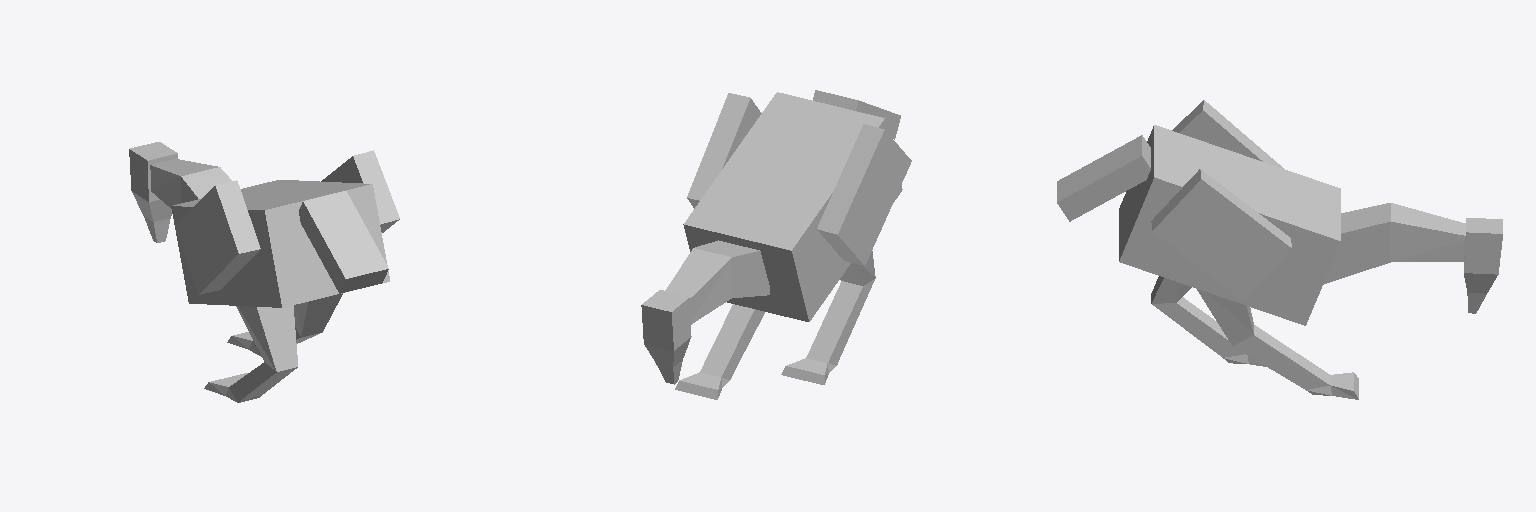
The model's file is Ostrich_000148.obj.
3 renders of one model, left to right at view 1: azimuth 30°, elevation 25°; view 2: azimuth 150°, elevation 25°; view 3: azimuth 270°, elevation 25°, orthographic.
Parts seen in each view (by area): view 1: Cube_Cube.001; view 2: Cube_Cube.001; view 3: Cube_Cube.001.
Part boxes in pixels (bbox=[...]): Cube_Cube.001: bbox=[129, 142, 399, 402]; Cube_Cube.001: bbox=[641, 90, 911, 399]; Cube_Cube.001: bbox=[1057, 100, 1502, 399].
Size of the model in its own units: 0.7449 by 1.04 by 1.79.